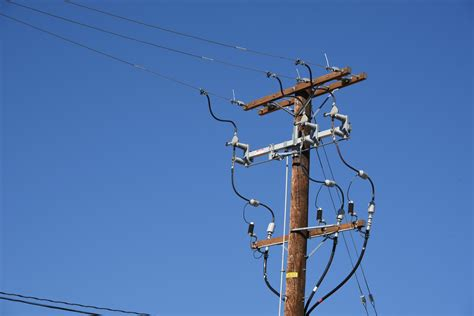pole: (226, 57, 382, 309)
